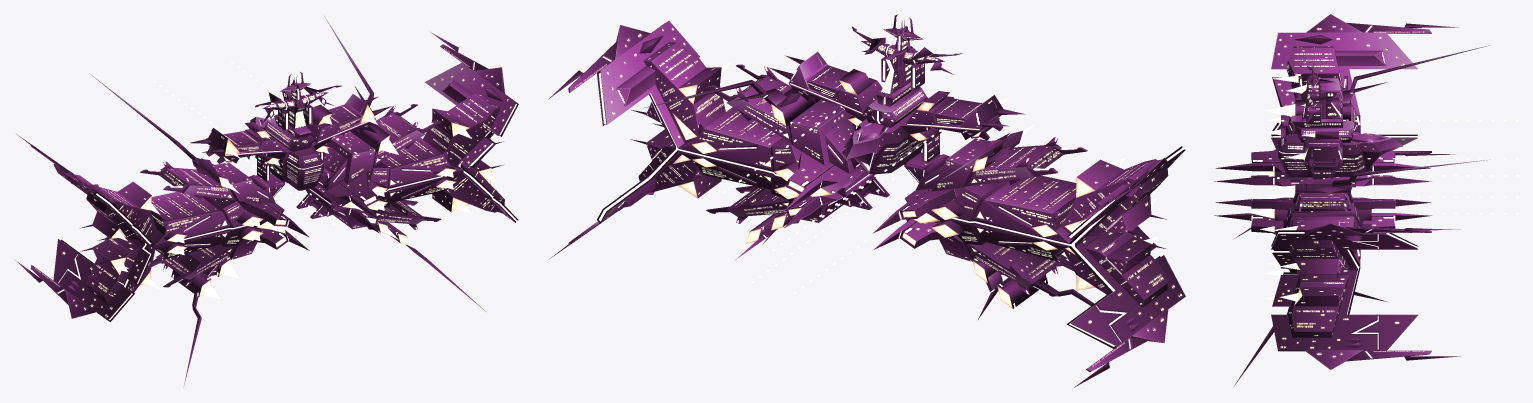
The picture shows the model from 3 angles, left to right: view 1: azimuth 30°, elevation 25°; view 2: azimuth 150°, elevation 25°; view 3: azimuth 270°, elevation 25°; orthographic projection. The views are drawn at different scales.
Visible parts, largest first — view 1: body; view 2: body; view 3: body.
Part boxes in pixels (<box>): body: <box>14,16,518,386</box>; body: <box>548,14,1185,387</box>; body: <box>1214,14,1518,385</box>.
Size of the model in its own units: 6023 by 3338 by 3702.
4 materials, 4 textured.
